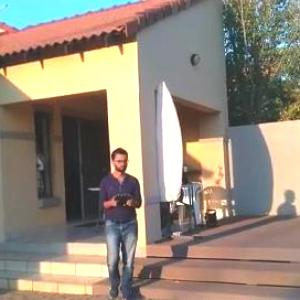follow: (96, 144, 146, 299)
